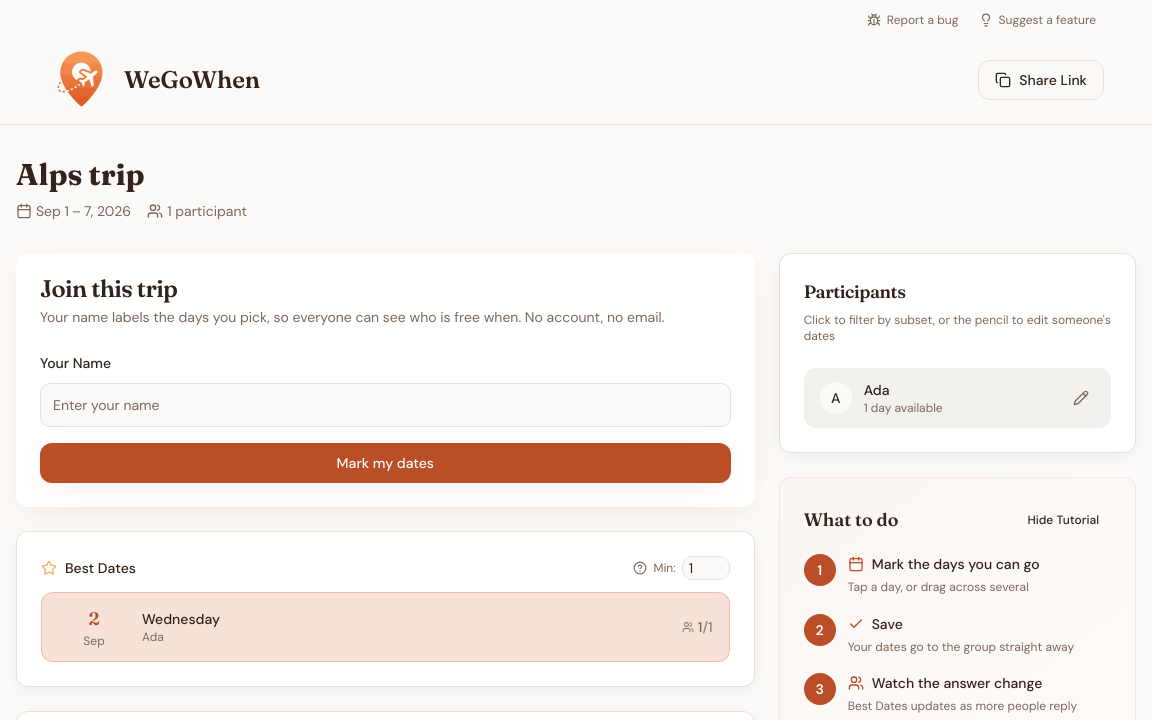
it: TripPage › matches a join name with a trailing space to the saved participant
Check: the heading "Alps trip" is shown, box [16,156,145,193]
Type "ada " into the field labelled "Your Name". click: (385, 405)
box: [40,383,731,427]
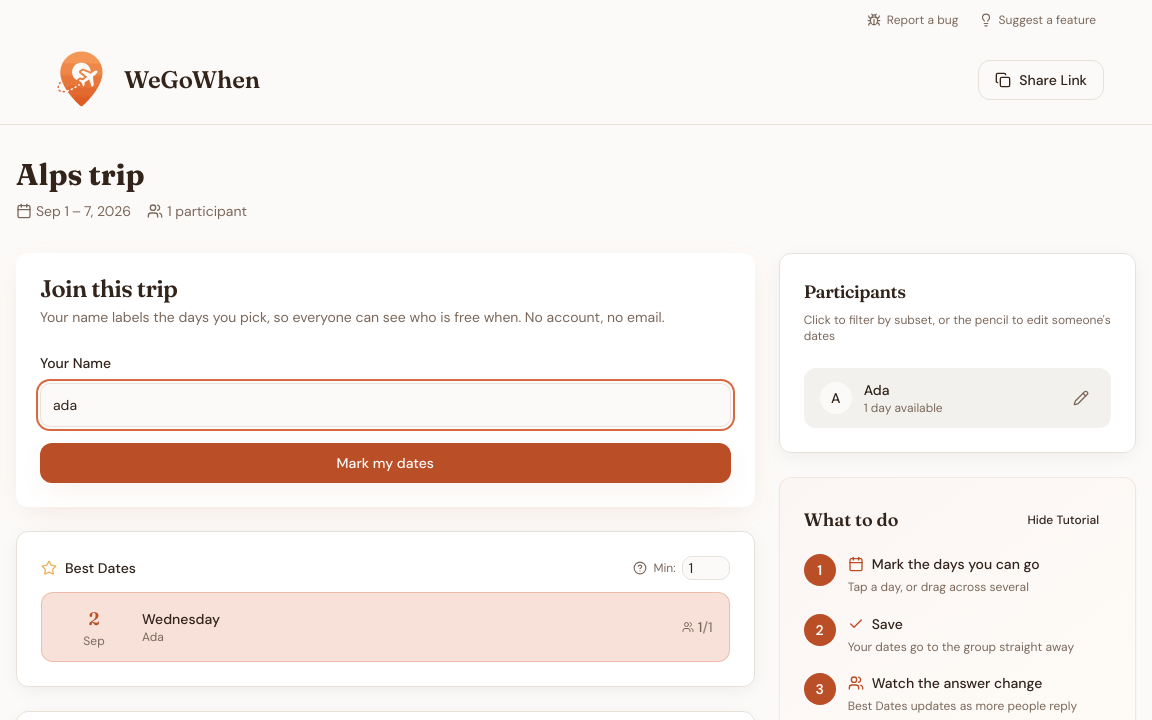
Click the button "Mark my dates". click: (385, 463)
box: [40,443,731,483]
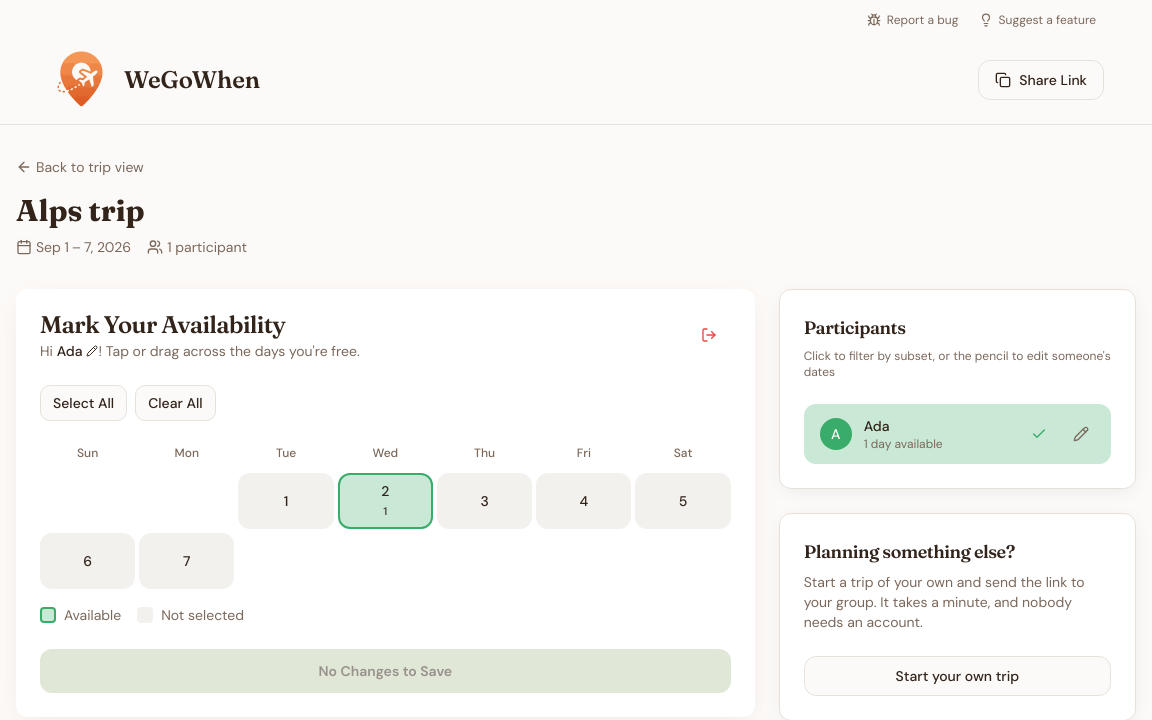
Check: the button "No Changes to Save" is disabled, box [40,649,731,693]
Check: the button "Ada" is shown, box [57,341,98,361]
